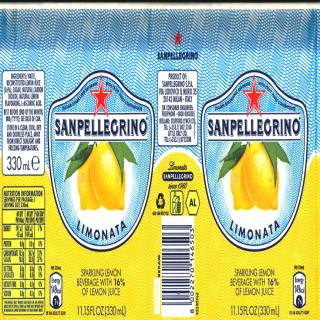Lemon: (90, 143, 126, 209), (243, 141, 279, 207), (230, 147, 252, 206), (78, 158, 101, 210)
